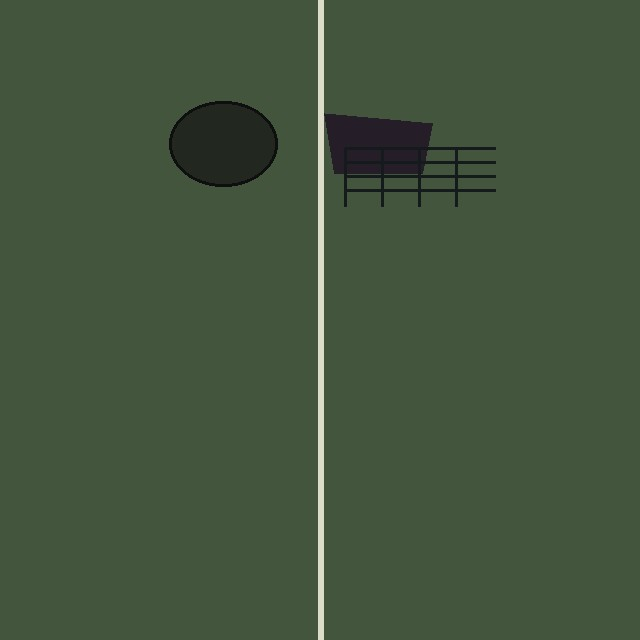alligator_crack: (345, 148, 495, 206)
damaged_surface: (324, 113, 432, 173)
pothole: (169, 101, 277, 186)
